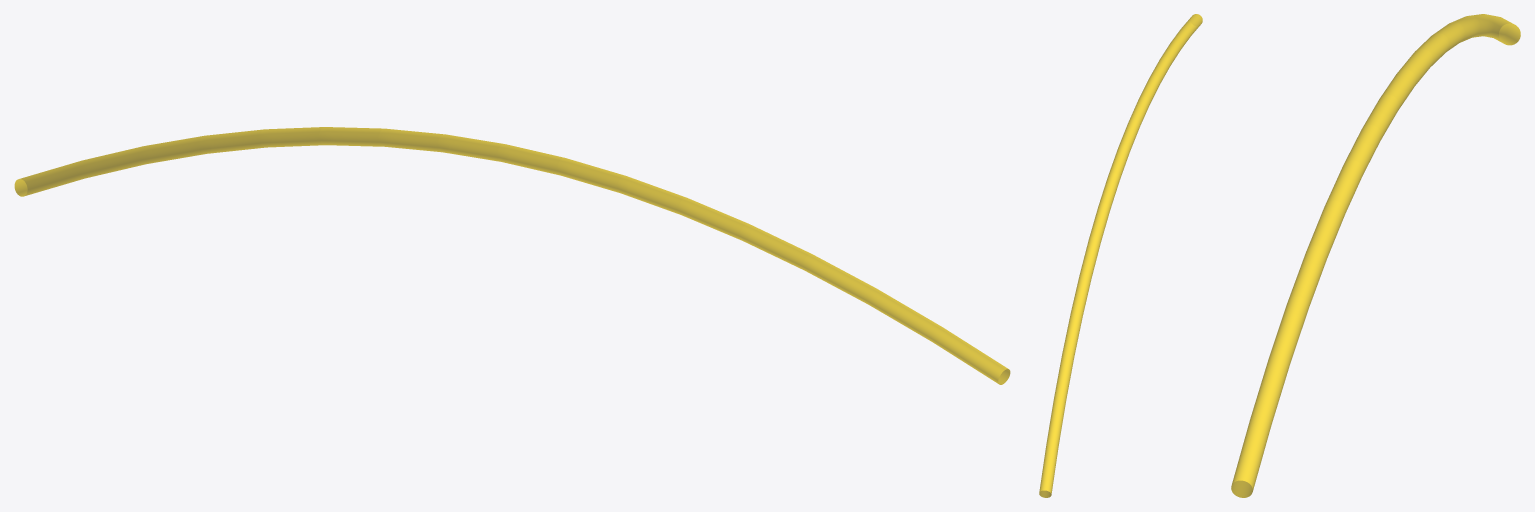
The model's file is Event_27938768_track_27.fbx.
The picture shows the model from 3 angles, left to right: view 1: azimuth 30°, elevation 25°; view 2: azimuth 150°, elevation 25°; view 3: azimuth 330°, elevation 25°; orthographic projection. The views are drawn at different scales.
Parts seen in each view (by area): view 1: Model; view 2: Model; view 3: Model.
Part boxes in pixels (x1,y1,x2,y2): Model: (14, 127, 1010, 384); Model: (1039, 14, 1202, 497); Model: (1231, 14, 1520, 497).
Bounding box in the file's own units: 1 × 0.5531 × 2.65.
